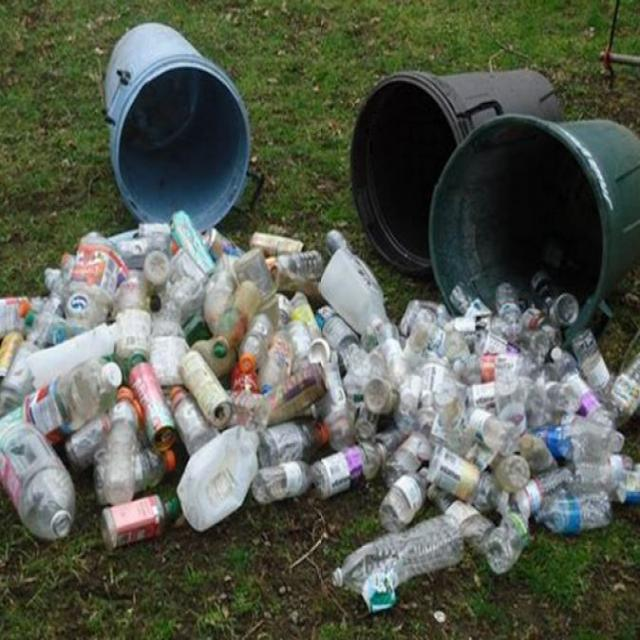metal: (423, 107, 640, 336), (346, 64, 570, 274), (104, 23, 260, 240), (171, 345, 245, 435), (129, 359, 188, 449)
plastic: (325, 517, 483, 596), (2, 415, 78, 557), (302, 438, 395, 501), (424, 442, 503, 511), (532, 489, 623, 542)
